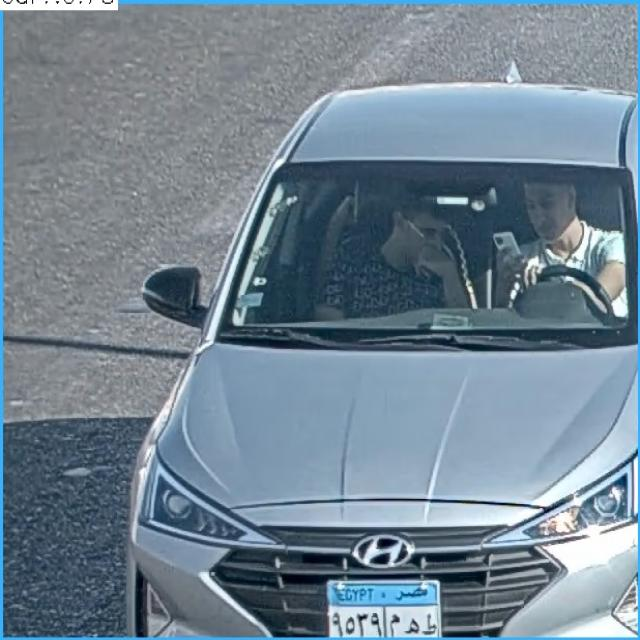windshield: (231, 163, 633, 347)
